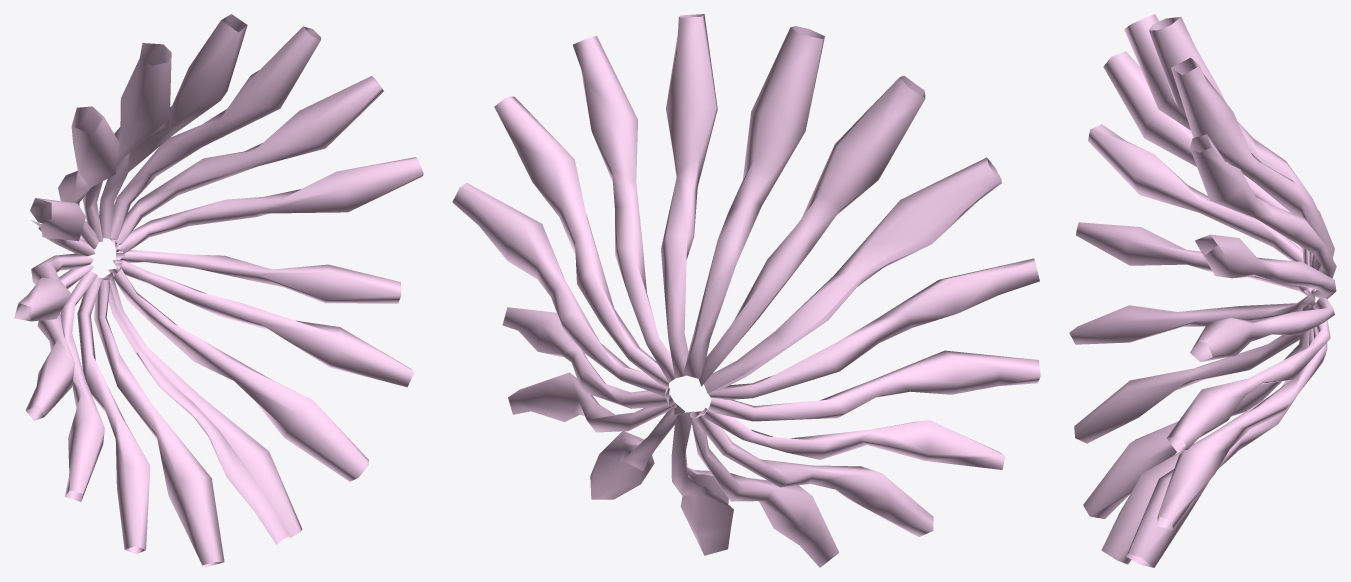
The model's file is visual-flower.glb.
The picture shows the model from 3 angles, left to right: view 1: azimuth 30°, elevation 25°; view 2: azimuth 150°, elevation 25°; view 3: azimuth 270°, elevation 25°; orthographic projection. The views are drawn at different scales.
Parts seen in each view (by area): view 1: Hair.035; view 2: Hair.035; view 3: Hair.035.
Part boxes in pixels (box(x1,y1,x2,y2)): Hair.035: box(14, 14, 423, 567); Hair.035: box(452, 14, 1040, 567); Hair.035: box(1069, 14, 1336, 567).
Size of the model in its own units: 1.87 by 1.96 by 0.9636.
